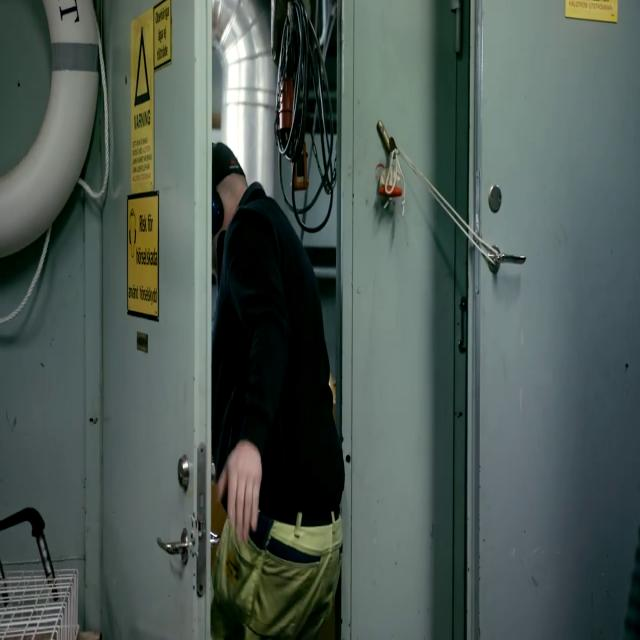earmuff: (208, 181, 226, 242)
